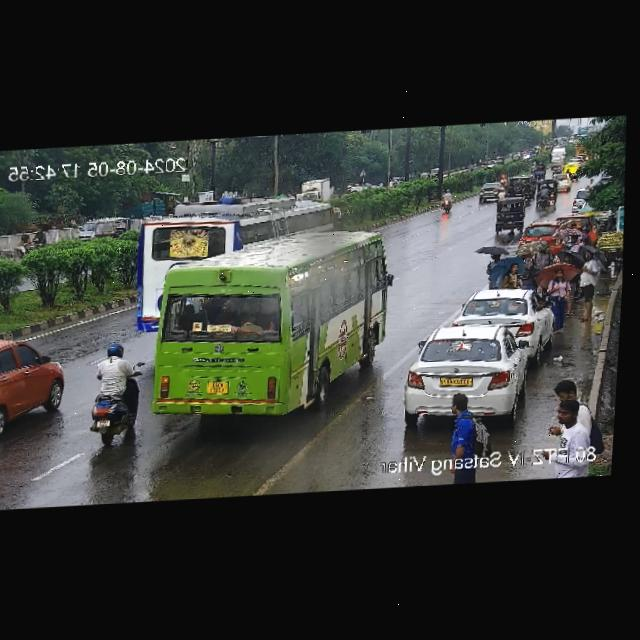bus: (139, 231, 397, 424), (123, 193, 338, 303)
car: (399, 320, 548, 424), (0, 332, 73, 443), (451, 287, 555, 346), (74, 216, 135, 243), (487, 197, 526, 232), (515, 220, 558, 251), (569, 188, 595, 215), (474, 181, 504, 202), (503, 173, 522, 198), (555, 173, 572, 192), (563, 162, 580, 180), (529, 165, 547, 181)
motorcycle: (86, 342, 144, 437), (531, 179, 558, 207), (20, 226, 47, 253), (433, 187, 458, 213), (521, 182, 535, 206), (497, 187, 506, 202), (550, 167, 559, 179), (565, 166, 572, 174)
person: (440, 394, 496, 458), (538, 395, 592, 452), (539, 264, 574, 328), (527, 241, 555, 289), (564, 229, 598, 263), (481, 252, 502, 288), (502, 259, 524, 290)
